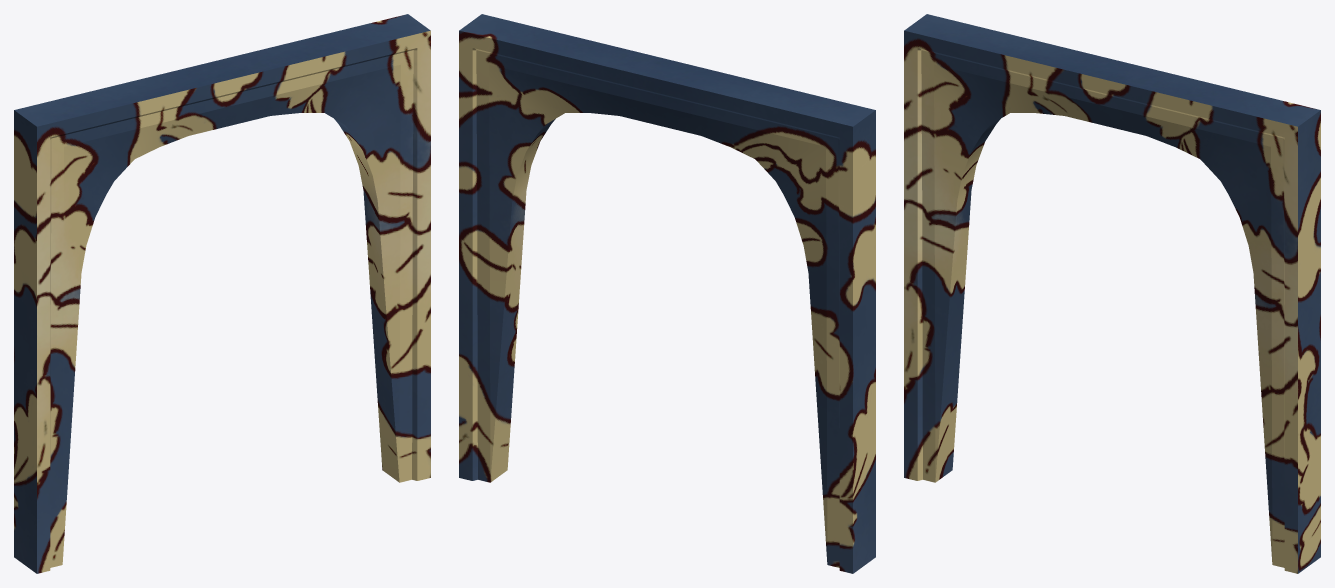
Rendered from Door_No_framuga.fbx.
The picture shows the model from 3 angles, left to right: view 1: azimuth 30°, elevation 25°; view 2: azimuth 150°, elevation 25°; view 3: azimuth 330°, elevation 25°; orthographic projection.
Visible parts, largest first — view 1: FragNoDoor; view 2: FragNoDoor; view 3: FragNoDoor.
Part boxes in pixels (bbox=[...]): FragNoDoor: bbox=[14, 14, 430, 573]; FragNoDoor: bbox=[459, 14, 875, 573]; FragNoDoor: bbox=[904, 14, 1320, 573].
Bounding box in the file's own units: 516 × 560 × 51.63.
